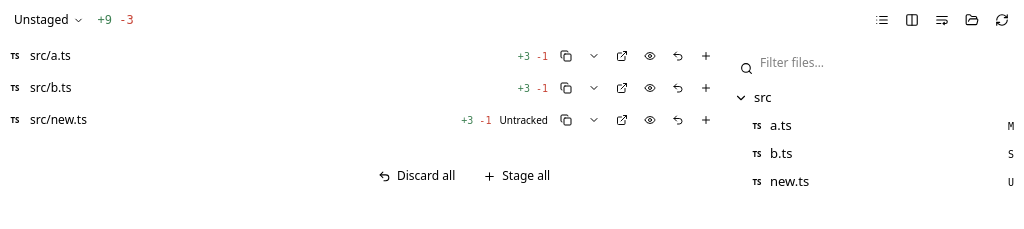
Test: stale writes › shows the refresh banner and does not retry when a write comes back stale
Click the button with test id "workspace-review-stage-all": [517, 176] box top-left (471, 160), bottom-right (562, 192)
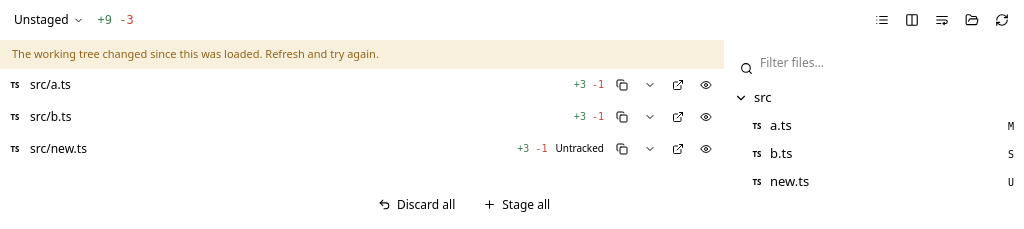
Expected: the message with test id "workspace-review-stale" reads "The working tree changed since this was loaded. Refresh and try again.", top-left (12, 46), bottom-right (379, 61)
